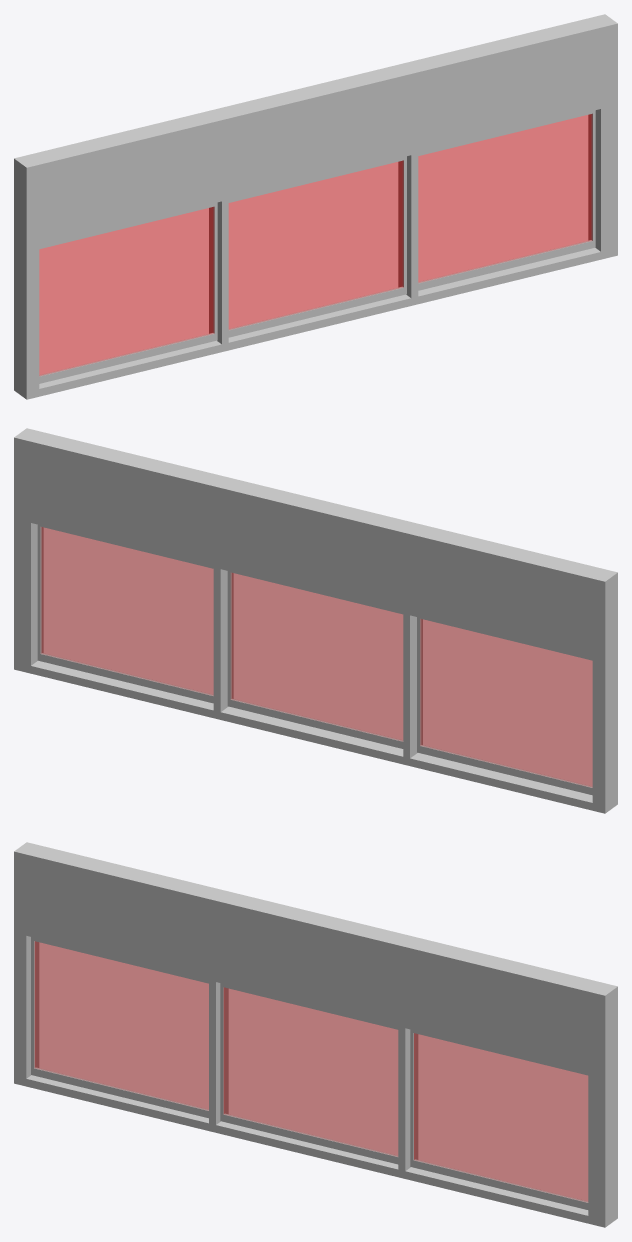
Rendered from wall with windows set 3.FBX.
3 renders of one model, top to bottom at view 1: azimuth 30°, elevation 25°; view 2: azimuth 150°, elevation 25°; view 3: azimuth 330°, elevation 25°, orthographic.
Parts seen in each view (by area): view 1: wall with windows set 3; view 2: wall with windows set 3; view 3: wall with windows set 3.
Boxes of the visible parts, left/top/right/bottom form: wall with windows set 3: left=14, top=14, right=617, bottom=399; wall with windows set 3: left=14, top=428, right=617, bottom=813; wall with windows set 3: left=14, top=842, right=617, bottom=1227.
Bounding box in the file's own units: 4 × 1.5 × 0.15.
